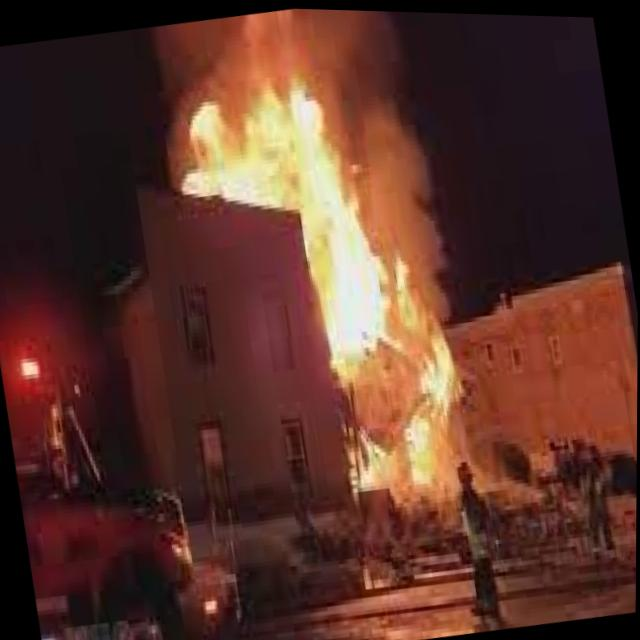Fire: (274, 15, 461, 388), (124, 10, 331, 246), (332, 380, 474, 505)
